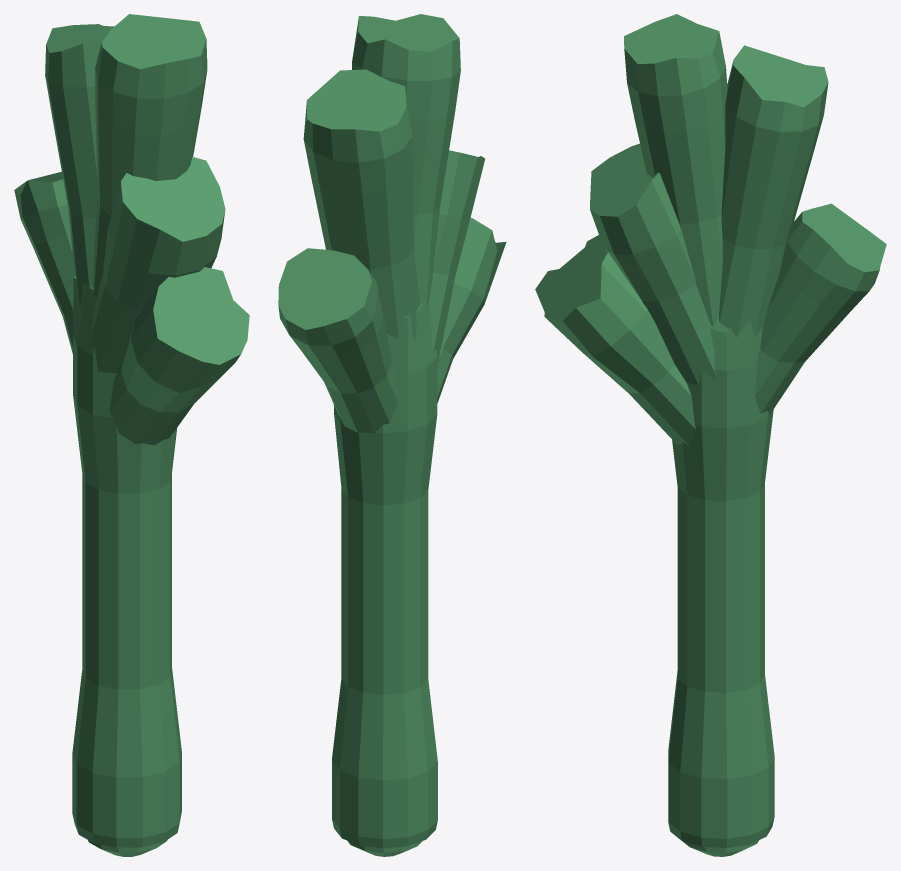
File: leek.glb
3 views of the same model, side by side, from view 1: azimuth 30°, elevation 25°; view 2: azimuth 150°, elevation 25°; view 3: azimuth 270°, elevation 25° (orthographic). The views are drawn at different scales.
Visible parts, largest first — view 1: Cylinder; view 2: Cylinder; view 3: Cylinder.
Part boxes in pixels (left/top/right/bottom): Cylinder: left=14, top=14, right=249, bottom=856; Cylinder: left=278, top=14, right=506, bottom=856; Cylinder: left=535, top=14, right=886, bottom=856.
Size of the model in its own units: 0.5612 by 4.37 by 1.7.
Materials: 1 (1 with a texture image).
